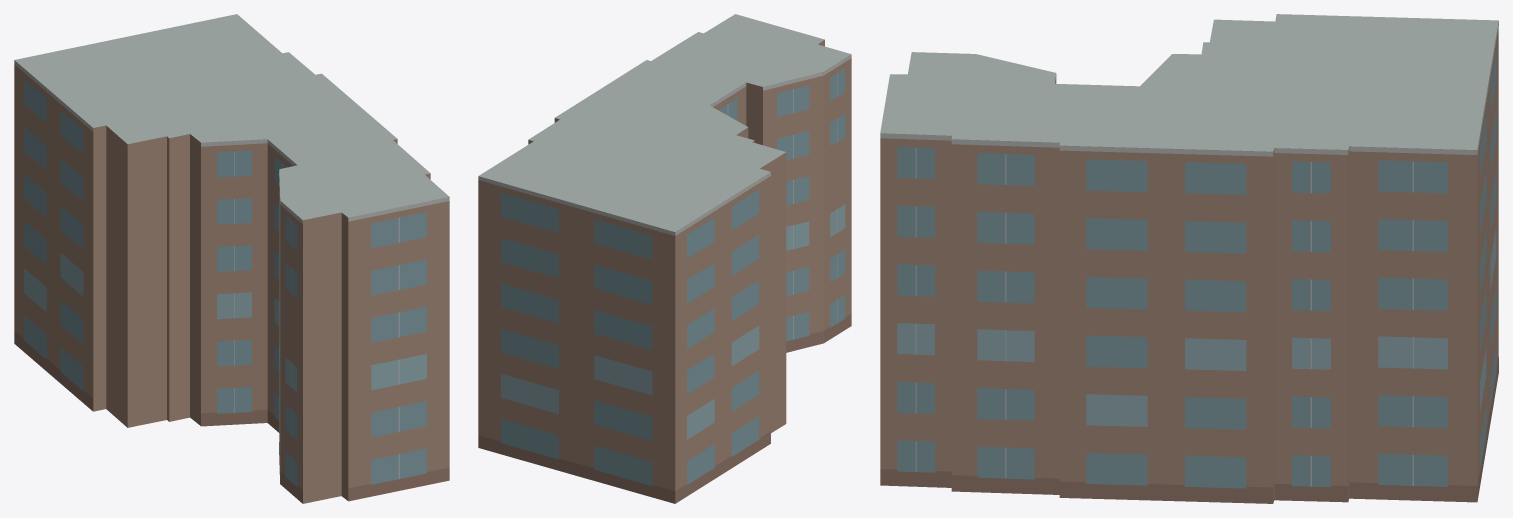
Rendered from survey-upis-32933476.glb.
3 renders of one model, left to right at view 1: azimuth 30°, elevation 25°; view 2: azimuth 150°, elevation 25°; view 3: azimuth 270°, elevation 25°, orthographic. The views are drawn at different scales.
Visible parts, largest first — view 1: survey-upis-32933476.tmp; view 2: survey-upis-32933476.tmp; view 3: survey-upis-32933476.tmp.
Boxes of the visible parts, box(x1,y1,x2,y2) form: survey-upis-32933476.tmp: box(14, 14, 449, 503); survey-upis-32933476.tmp: box(478, 14, 851, 503); survey-upis-32933476.tmp: box(880, 14, 1498, 503).
Bounding box in the file's own units: 14.43 × 17.2 × 27.39.
